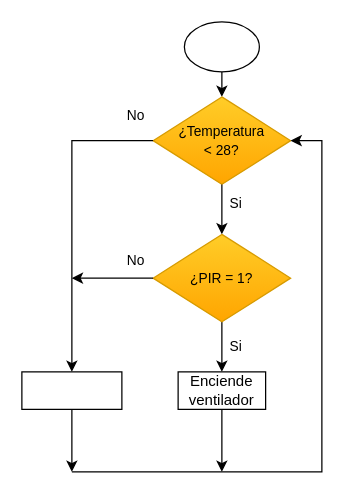
This 354x504 diagram has some shape labels left out. The centre of each missing label's shape, as x and y in pixels:
"Apaga ventilador" belongs at [71,390].
"Inicio" belongs at [221,46].
